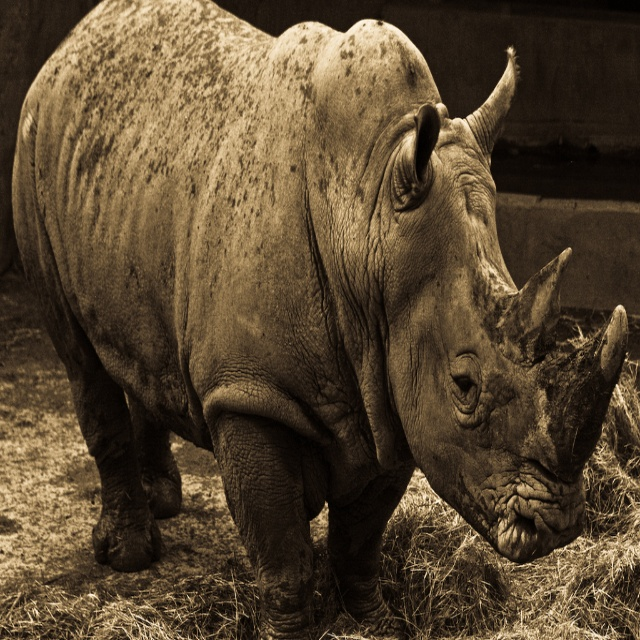Rhinoceros: (8, 0, 632, 639)
